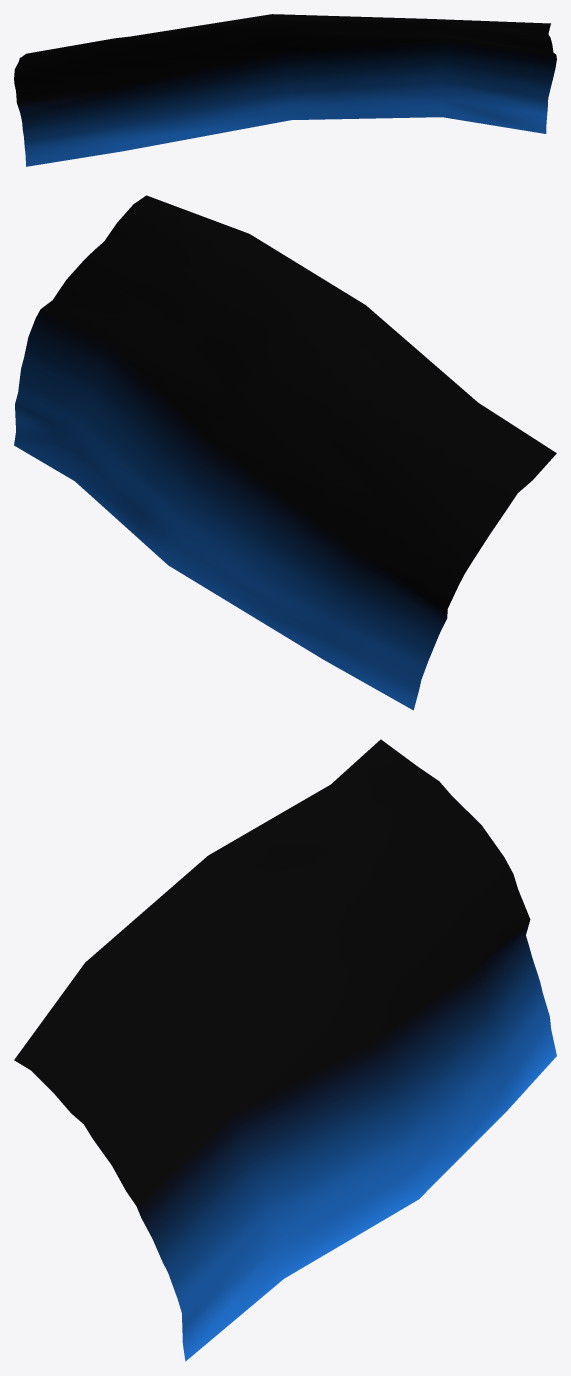
The model's file is SM_EastLands_DemoSceneWaterfall_Foam_01.fbx.
The picture shows the model from 3 angles, top to bottom: view 1: azimuth 30°, elevation 25°; view 2: azimuth 150°, elevation 25°; view 3: azimuth 270°, elevation 25°; orthographic projection. The views are drawn at different scales.
Parts seen in each view (by area): view 1: SM_FarEast_DemoSceneWaterfall_Foam_01; view 2: SM_FarEast_DemoSceneWaterfall_Foam_01; view 3: SM_FarEast_DemoSceneWaterfall_Foam_01.
Boxes of the visible parts, x1=… form: SM_FarEast_DemoSceneWaterfall_Foam_01: x1=14, y1=14, x2=556, y2=166; SM_FarEast_DemoSceneWaterfall_Foam_01: x1=14, y1=195, x2=556, y2=710; SM_FarEast_DemoSceneWaterfall_Foam_01: x1=14, y1=739, x2=556, y2=1361.
Size of the model in its own units: 22.9 by 8.97 by 14.05.
